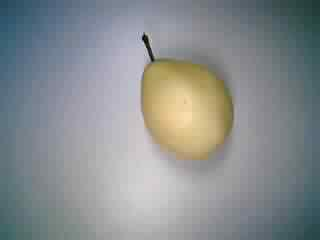pear: (123, 30, 238, 166)
